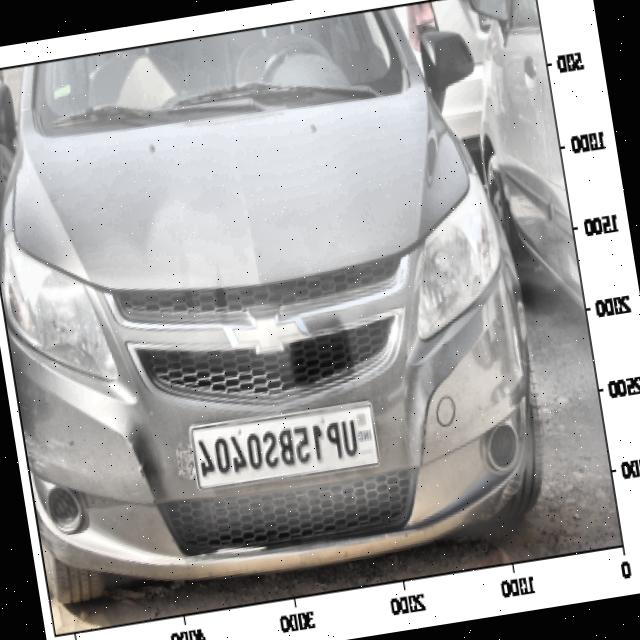license_plate: (190, 406, 365, 491)
